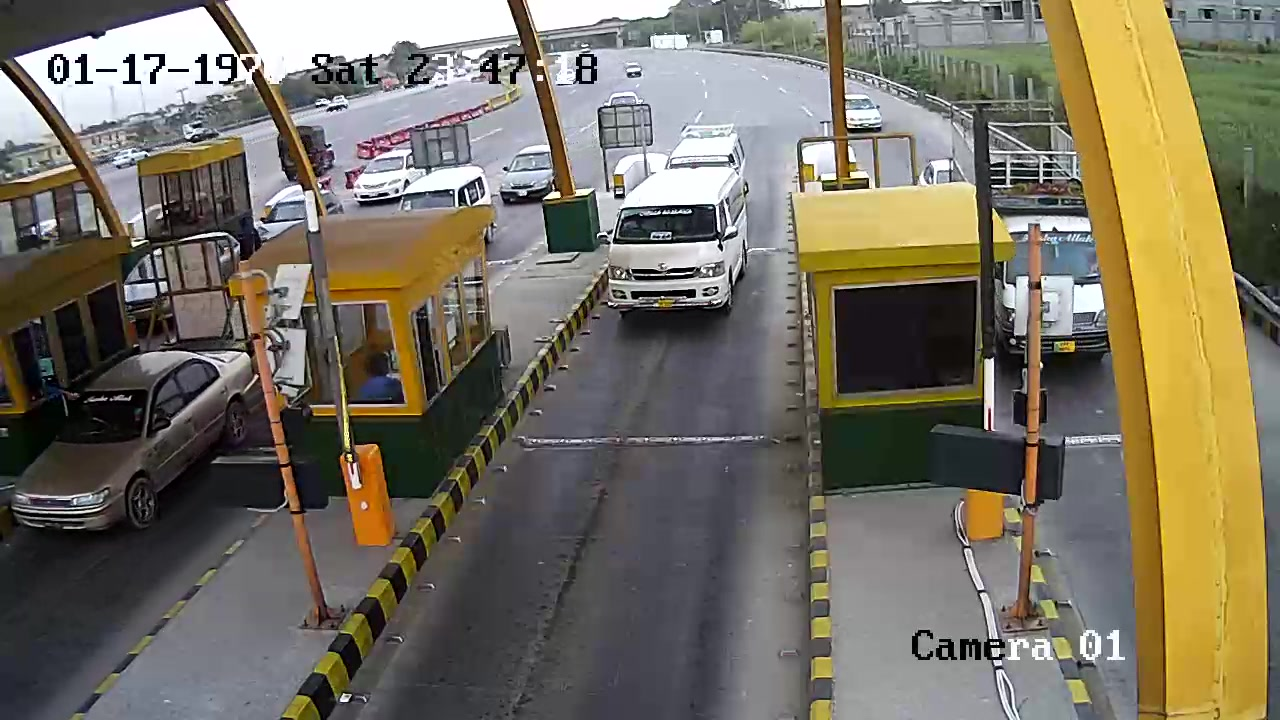F2: (600, 157, 751, 320)
